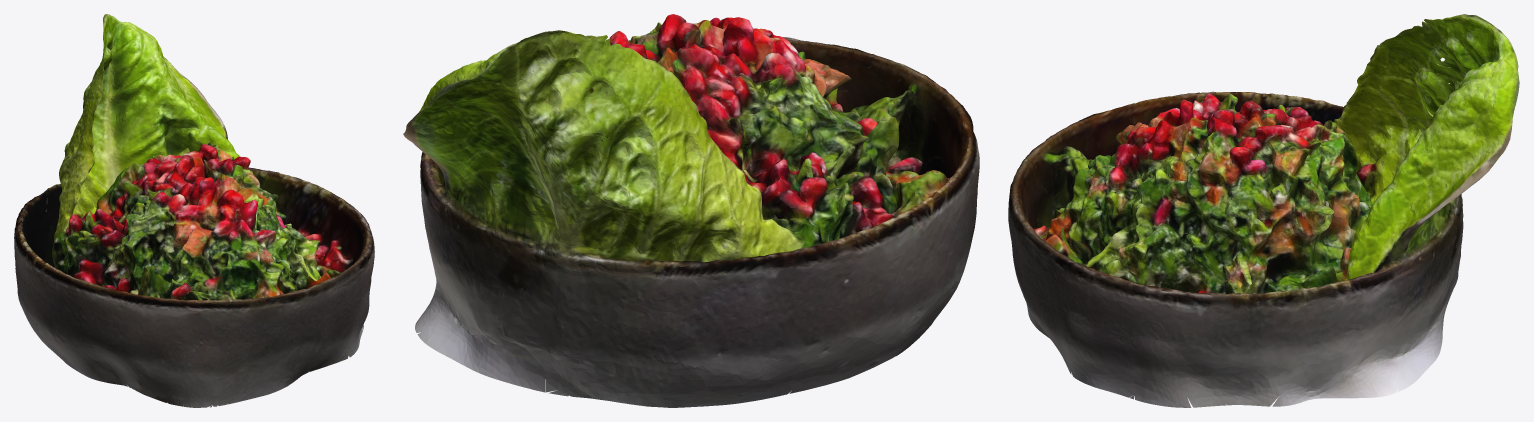
The model's file is rodie-nou.glb.
3 views of the same model, side by side, from view 1: azimuth 30°, elevation 25°; view 2: azimuth 150°, elevation 25°; view 3: azimuth 270°, elevation 25° (orthographic). The views are drawn at different scales.
Size of the model in its own units: 0.1498 by 0.1125 by 0.1694.
Materials: 1 (1 with a texture image).
